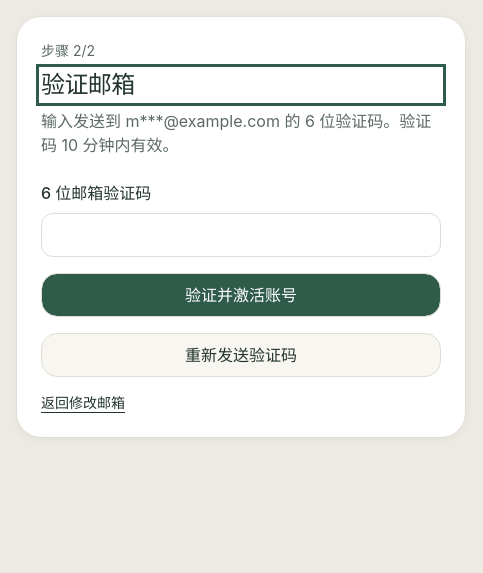
Test: authentication forms › offers explicit recovery when verification loses network connectivity
Type "123456" into the field labelled "6 位邮箱验证码" at (241, 235), box [41, 213, 441, 257]
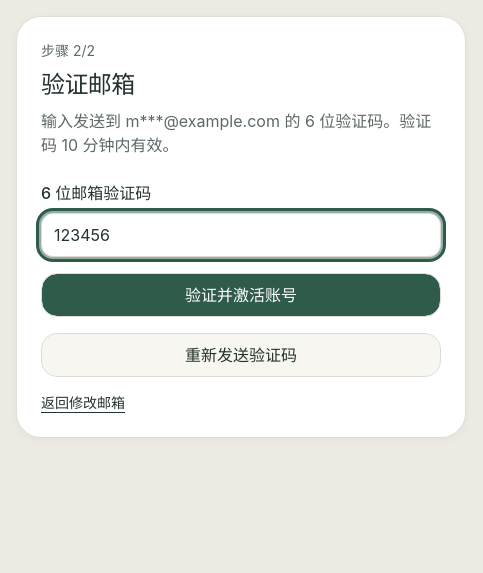
Click the button "验证并激活账号" at (241, 295), box [41, 273, 441, 317]
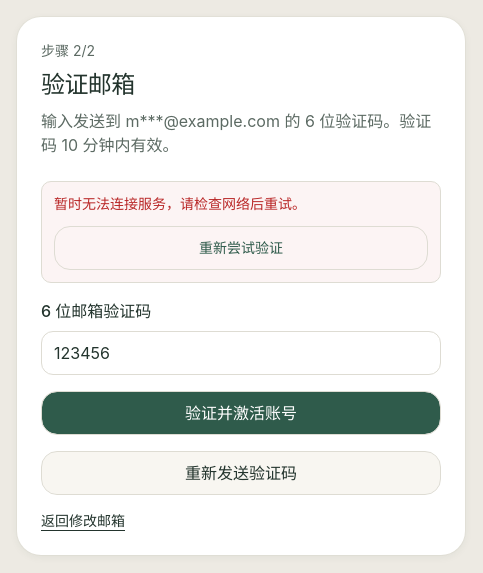
Expected: the text "暂时无法连接服务，请检查网络后重试。" is shown, [54, 195, 306, 212]
Expected: the button "重新尝试验证" is shown, [54, 226, 428, 270]
